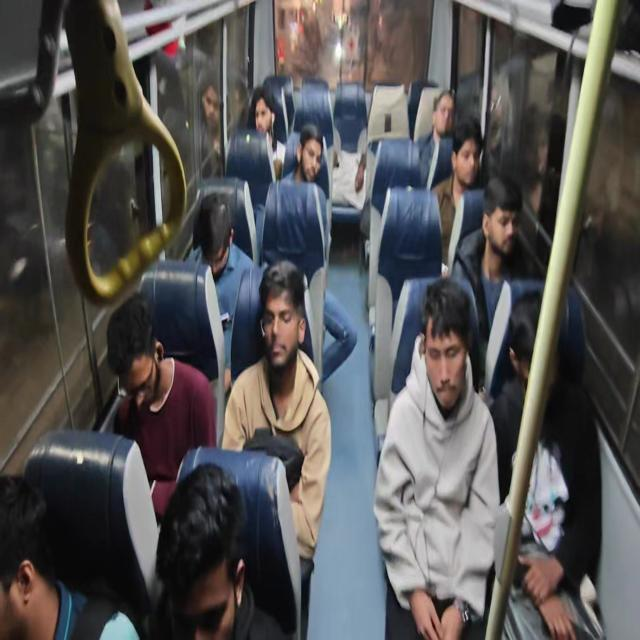person: (161, 456, 246, 640), (1, 458, 54, 638), (102, 300, 173, 416), (422, 280, 481, 415), (253, 258, 308, 392), (505, 289, 570, 398), (189, 196, 238, 284), (478, 176, 524, 256), (292, 117, 330, 190), (246, 80, 284, 149), (450, 127, 483, 193), (432, 92, 458, 139)
